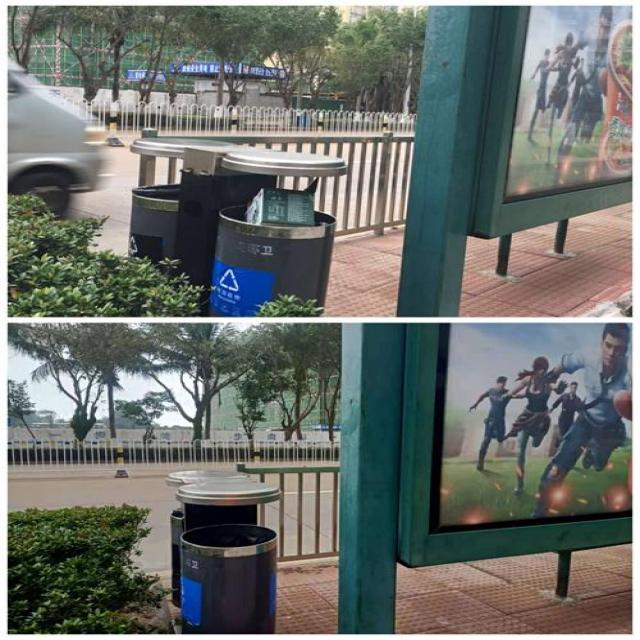garbage_bin: (164, 471, 282, 632)
overflow: (130, 139, 347, 315)
